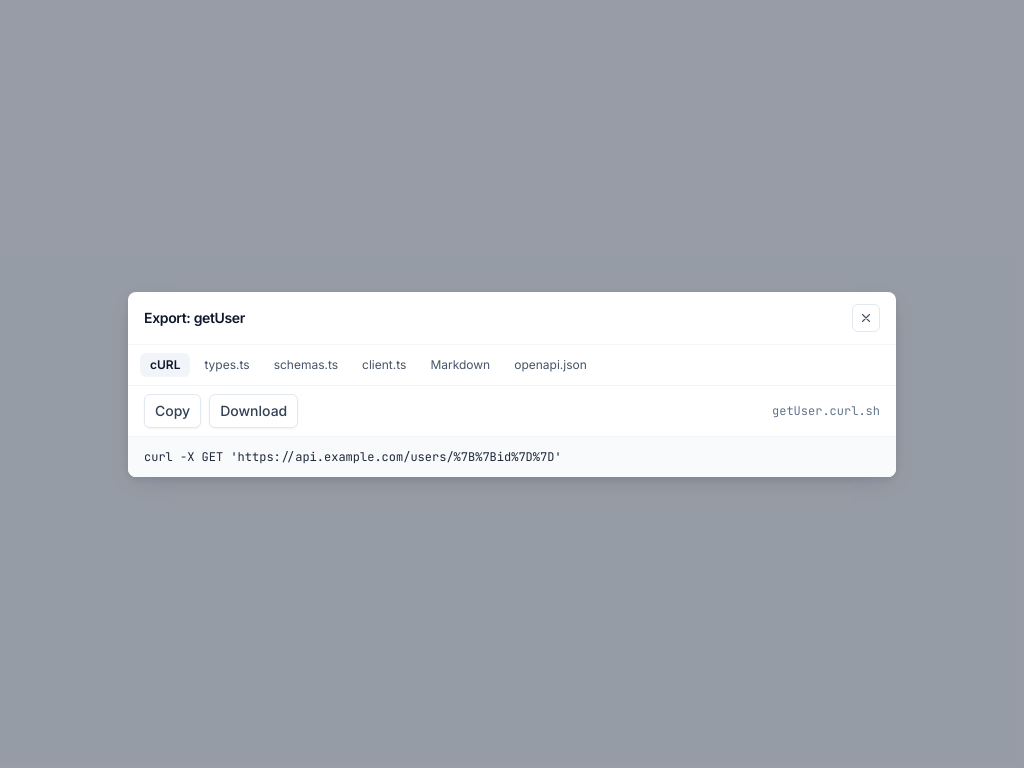
Test: schemas.ts tab shows Zod schemas for closure types only
This screenshot has width=1024, height=768.
Click the tab "schemas.ts" at (306, 364), box [264,352,348,376]
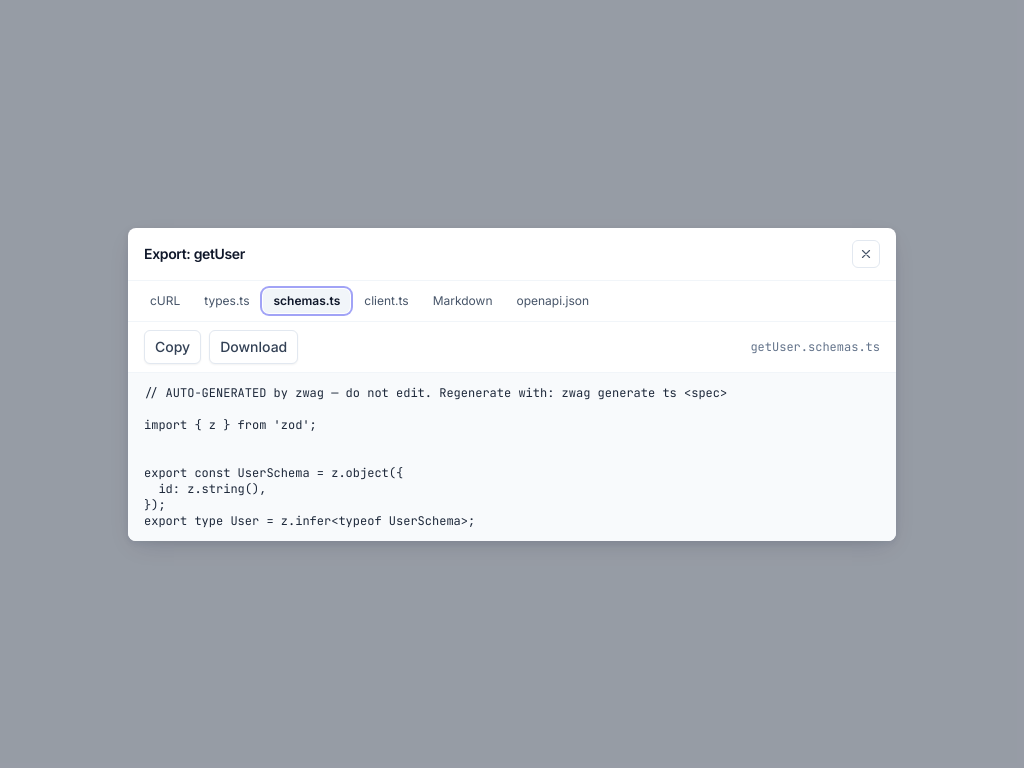
expect the text "UserSchema" is shown: met, box [144,384,727,528]
